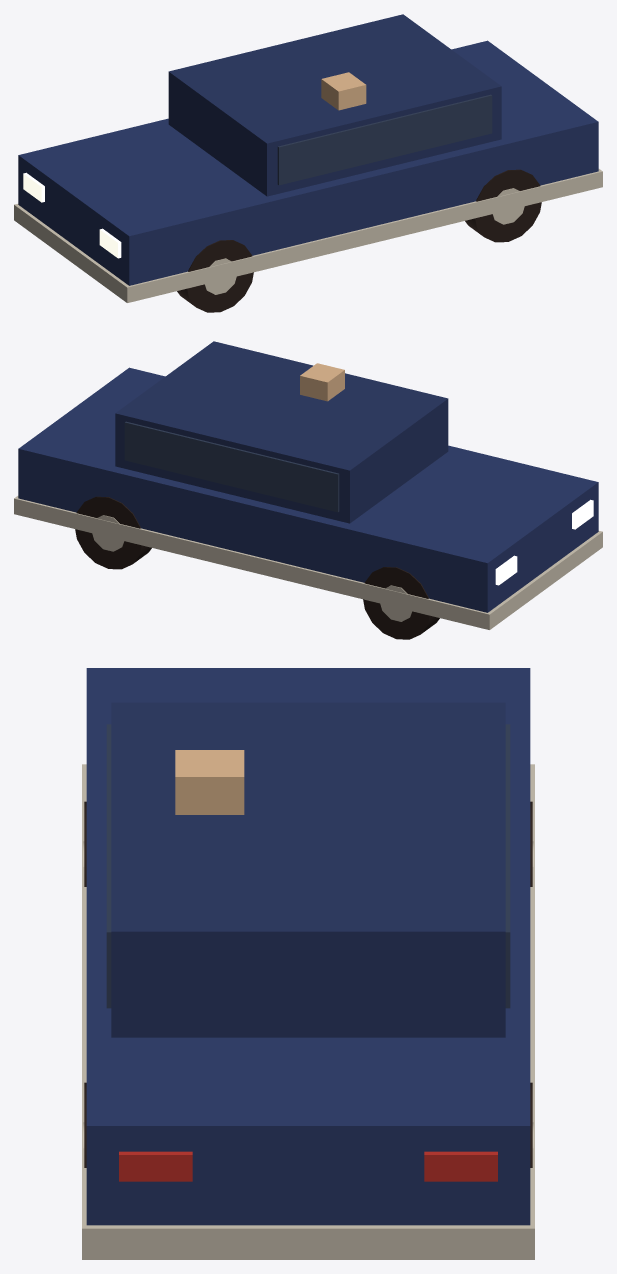
File: traffic_4.glb
3 views of the same model, one above another, from view 1: azimuth 30°, elevation 25°; view 2: azimuth 150°, elevation 25°; view 3: azimuth 270°, elevation 25° (orthographic). The views are drawn at different scales.
Visible parts, largest first — view 1: Box1, Box2, Box4, Box3, Part2, Part4, Box10, Box7, Box5; view 2: Box1, Box2, Box4, Box3, Part1, Part3, Box10, Box5, Box7; view 3: Box2, Box1, Box4, Box10, Box3, Box6, Box8.
Part boxes in pixels (box(x1,y1,x2,y2)): Box1: box(18, 40, 598, 285); Box2: box(168, 14, 501, 196); Box4: box(14, 169, 602, 302); Box3: box(277, 94, 492, 185); Part2: box(465, 169, 541, 242); Part4: box(177, 240, 253, 312); Box10: box(321, 72, 366, 110); Box7: box(99, 228, 121, 258); Box5: box(23, 172, 44, 202); Box1: box(18, 367, 598, 612); Box2: box(115, 341, 448, 523); Box4: box(14, 496, 602, 629); Box3: box(124, 421, 339, 512); Part1: box(75, 496, 151, 569); Part3: box(363, 567, 439, 639); Box10: box(300, 363, 344, 401); Box5: box(495, 555, 517, 585); Box7: box(572, 499, 593, 529); Box2: box(111, 702, 505, 1037); Box1: box(86, 668, 530, 1225); Box4: box(82, 764, 534, 1259); Box10: box(175, 750, 244, 814); Box3: box(106, 724, 510, 1008); Box6: box(424, 1151, 497, 1181); Box8: box(119, 1151, 192, 1181).
Bounding box in the file's own units: 4.46 × 1.52 × 1.84.
